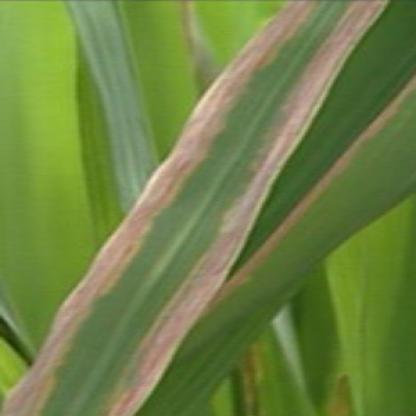Blight: (1, 1, 389, 416)
